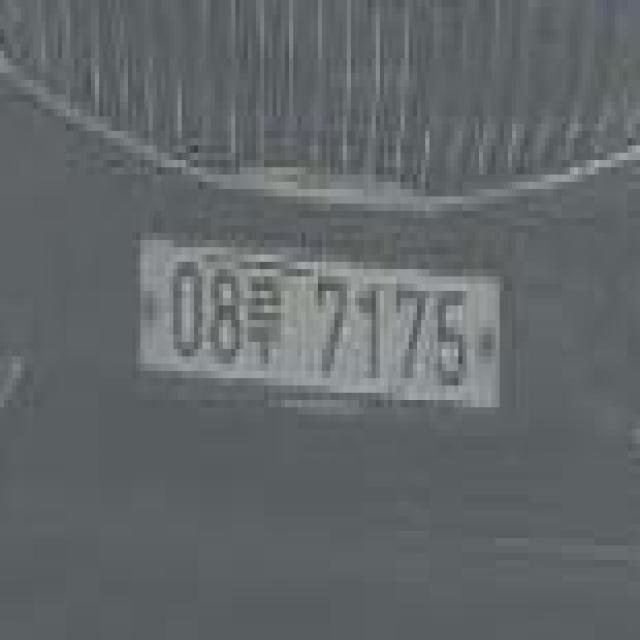illegal_plate: (133, 223, 509, 433)
